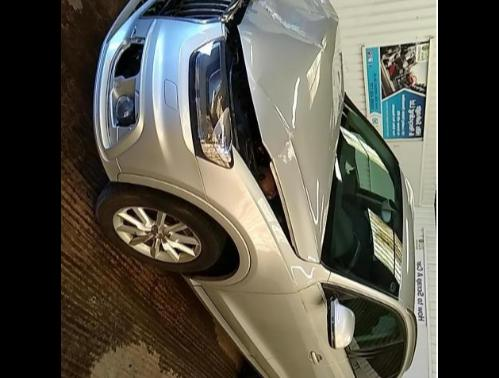Broken part: (220, 0, 346, 262), (94, 0, 222, 200), (142, 0, 242, 22)
Dent: (250, 0, 336, 134)
Missing part: (114, 42, 144, 78)
